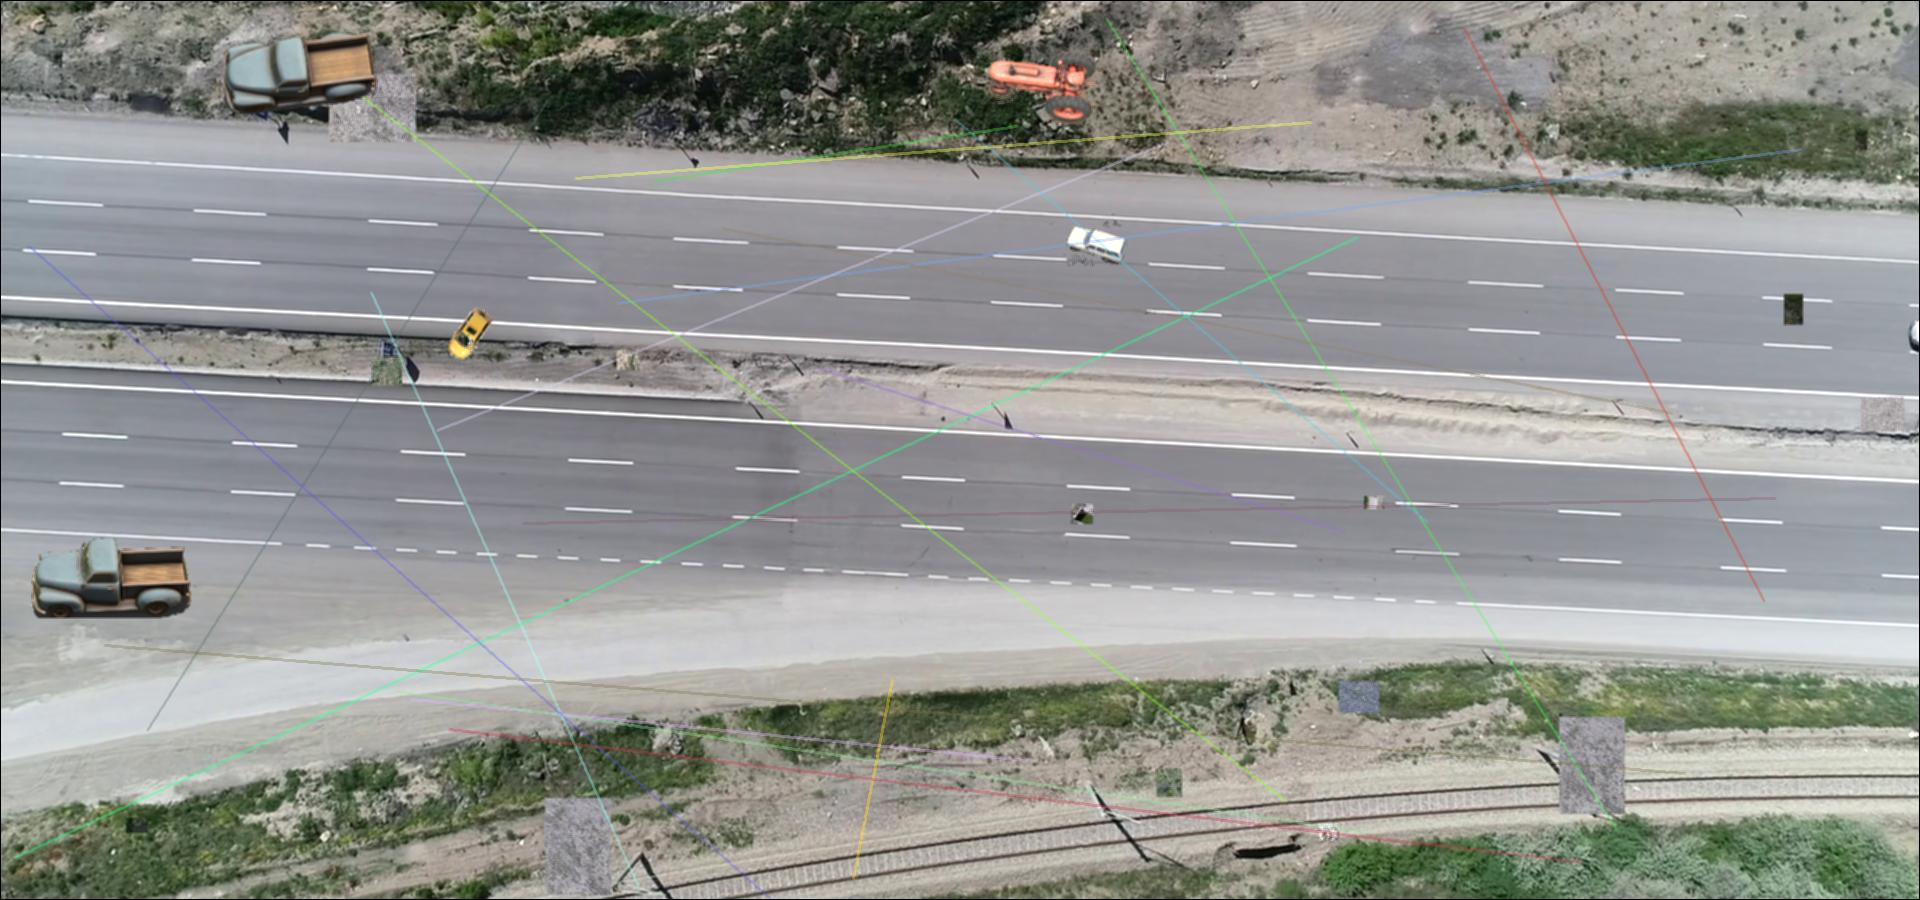arac: (224, 29, 380, 118), (31, 538, 191, 618), (984, 49, 1101, 124), (1062, 225, 1127, 266), (446, 307, 493, 360)
